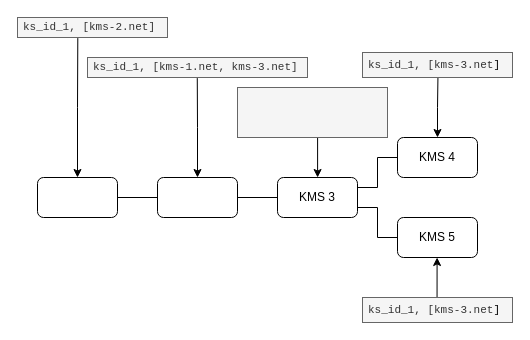
Some shapes in this 530 by 340 pixel diagram are drawn without their labels. Here are the shapes that lost their labels. From the top down, the centre of each, then its label:
point 312,112: ks_id_1, [kms-2.net, kms-4.net, kms-5.net]
point 77,197: KMS 1
point 197,197: KMS 2
